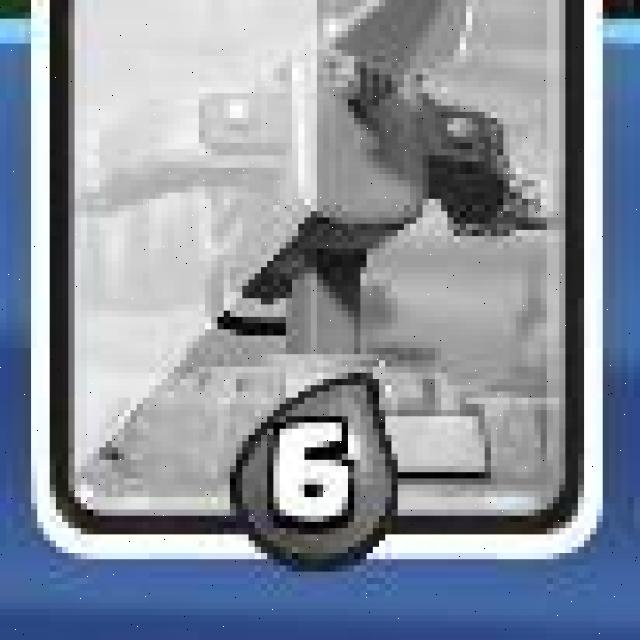X_Bow: (27, 0, 598, 562)
